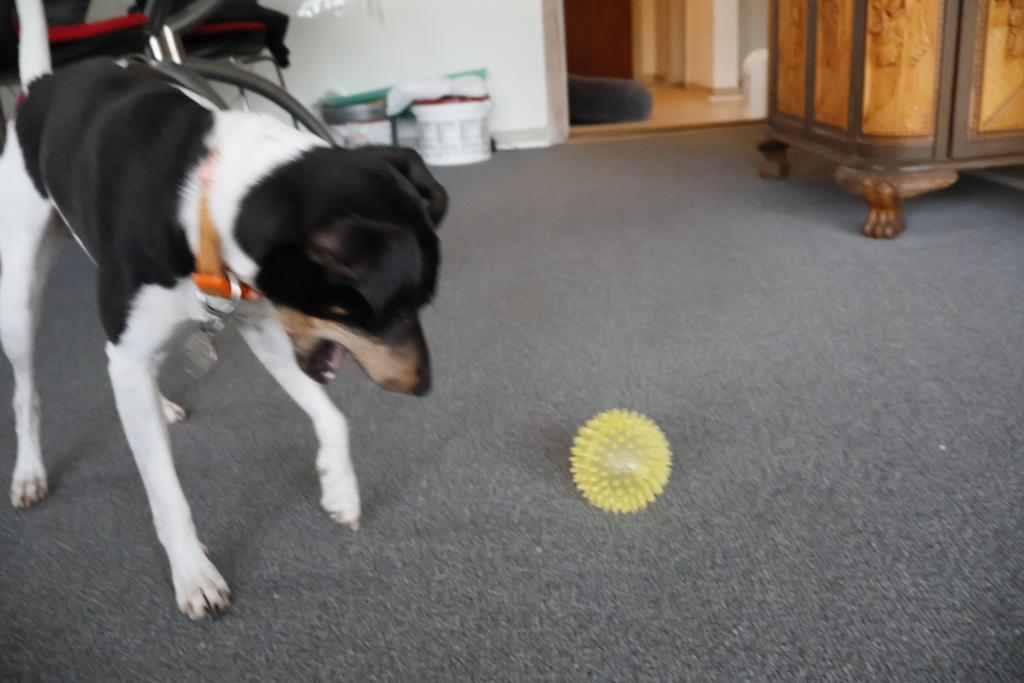Dog: (0, 0, 465, 634)
